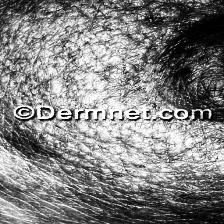Benign Marking or Mole: (157, 11, 224, 122)
